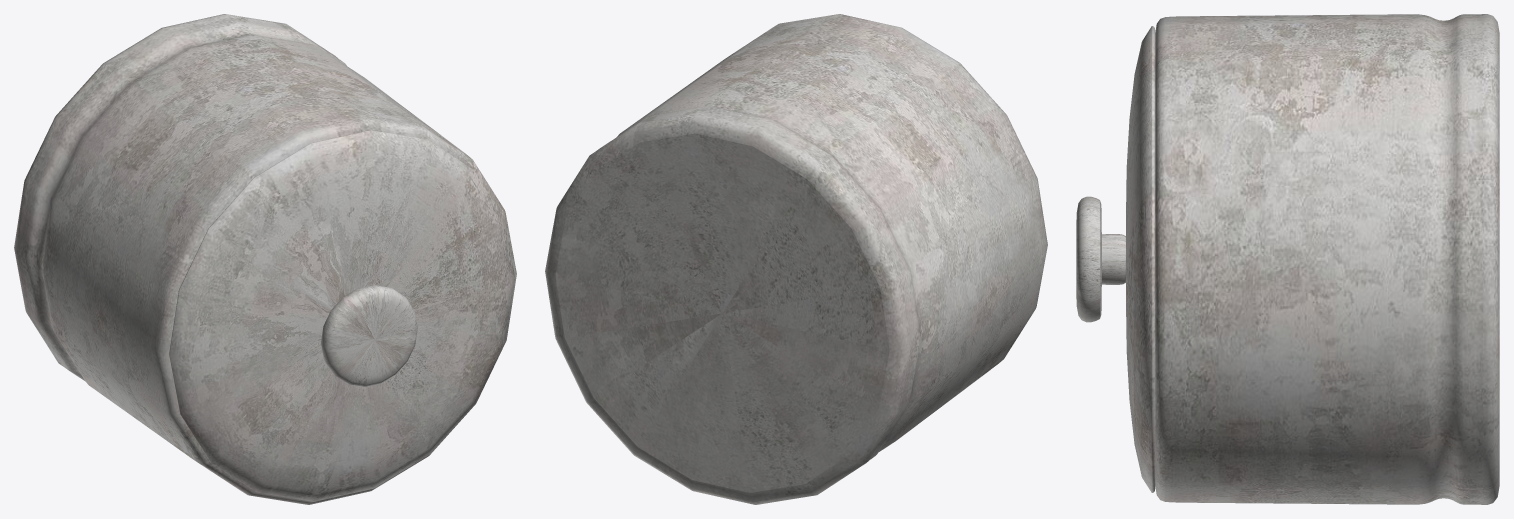
The picture shows the model from 3 angles, left to right: view 1: azimuth 30°, elevation 25°; view 2: azimuth 150°, elevation 25°; view 3: azimuth 270°, elevation 25°; orthographic projection. The views are drawn at different scales.
Size of the model in its own units: 1.94 by 1.93 by 1.7.
Materials: 1 (1 with a texture image).
